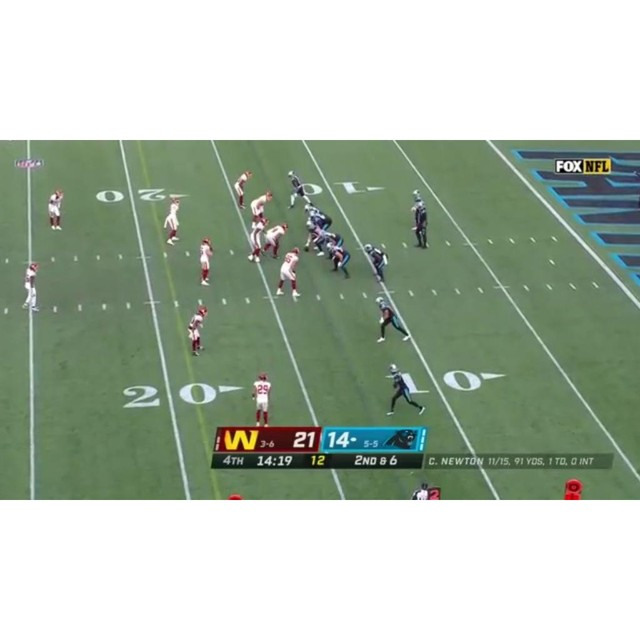american-football-player: (386, 363, 425, 416), (375, 296, 409, 343), (276, 246, 302, 300), (251, 372, 272, 426), (187, 303, 208, 356), (410, 198, 430, 250), (363, 243, 389, 283), (261, 222, 288, 260), (287, 170, 312, 209), (326, 242, 351, 280), (247, 216, 268, 261), (22, 262, 40, 312), (163, 196, 181, 245), (304, 218, 326, 256), (304, 205, 333, 231), (198, 236, 213, 286), (234, 171, 253, 210), (250, 191, 272, 224), (48, 189, 64, 231)
